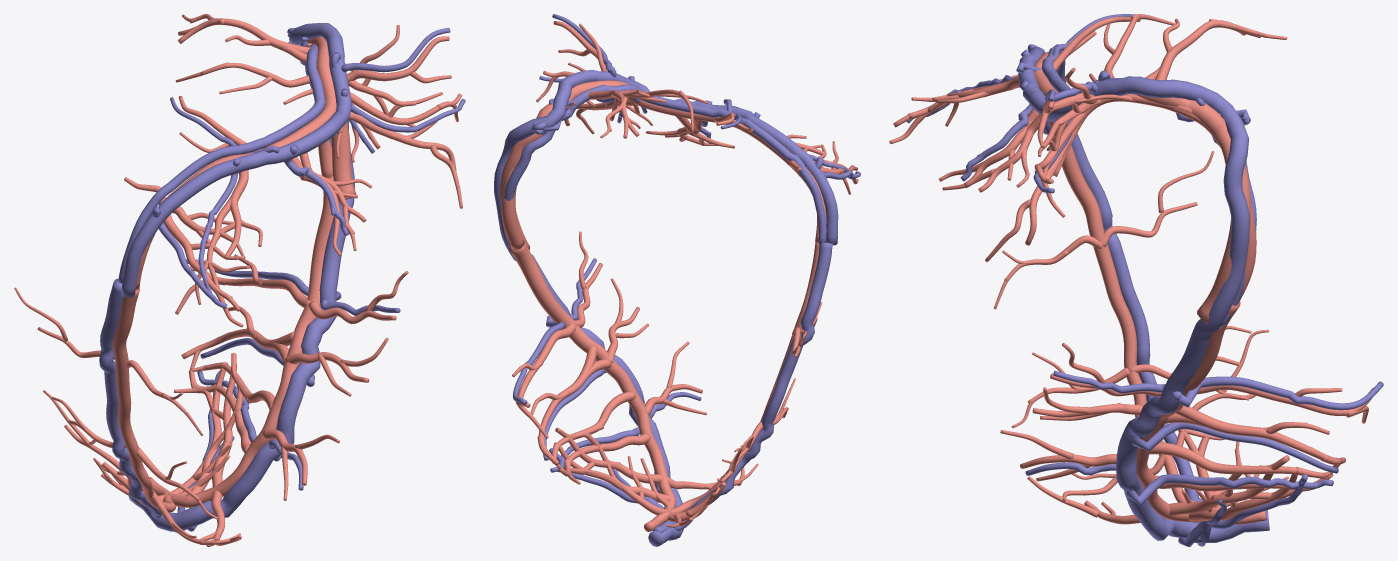
Rendered from vessels_33.glb.
The picture shows the model from 3 angles, left to right: view 1: azimuth 30°, elevation 25°; view 2: azimuth 150°, elevation 25°; view 3: azimuth 270°, elevation 25°; orthographic projection. The views are drawn at different scales.
Parts seen in each view (by area): view 1: Renderer Node; view 2: Renderer Node; view 3: Renderer Node.
Boxes of the visible parts, left/top/right/bottom form: Renderer Node: left=14, top=14, right=465, bottom=546; Renderer Node: left=494, top=14, right=860, bottom=546; Renderer Node: left=889, top=14, right=1383, bottom=546.
Size of the model in its own units: 93.79 by 121 by 94.93.
